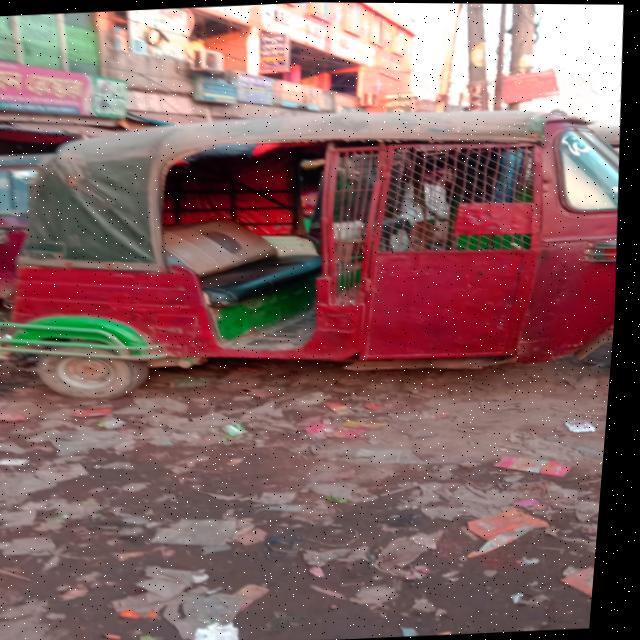cng: (13, 88, 634, 417)
